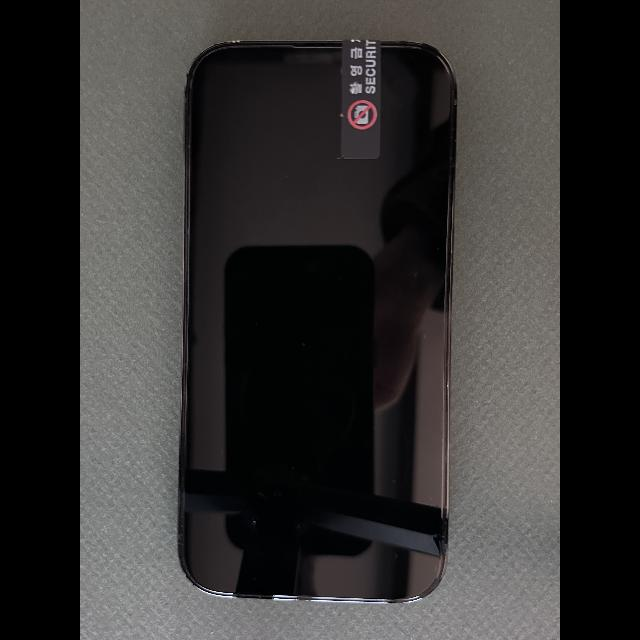phone: (179, 41, 457, 604)
sticker: (341, 40, 381, 160)
